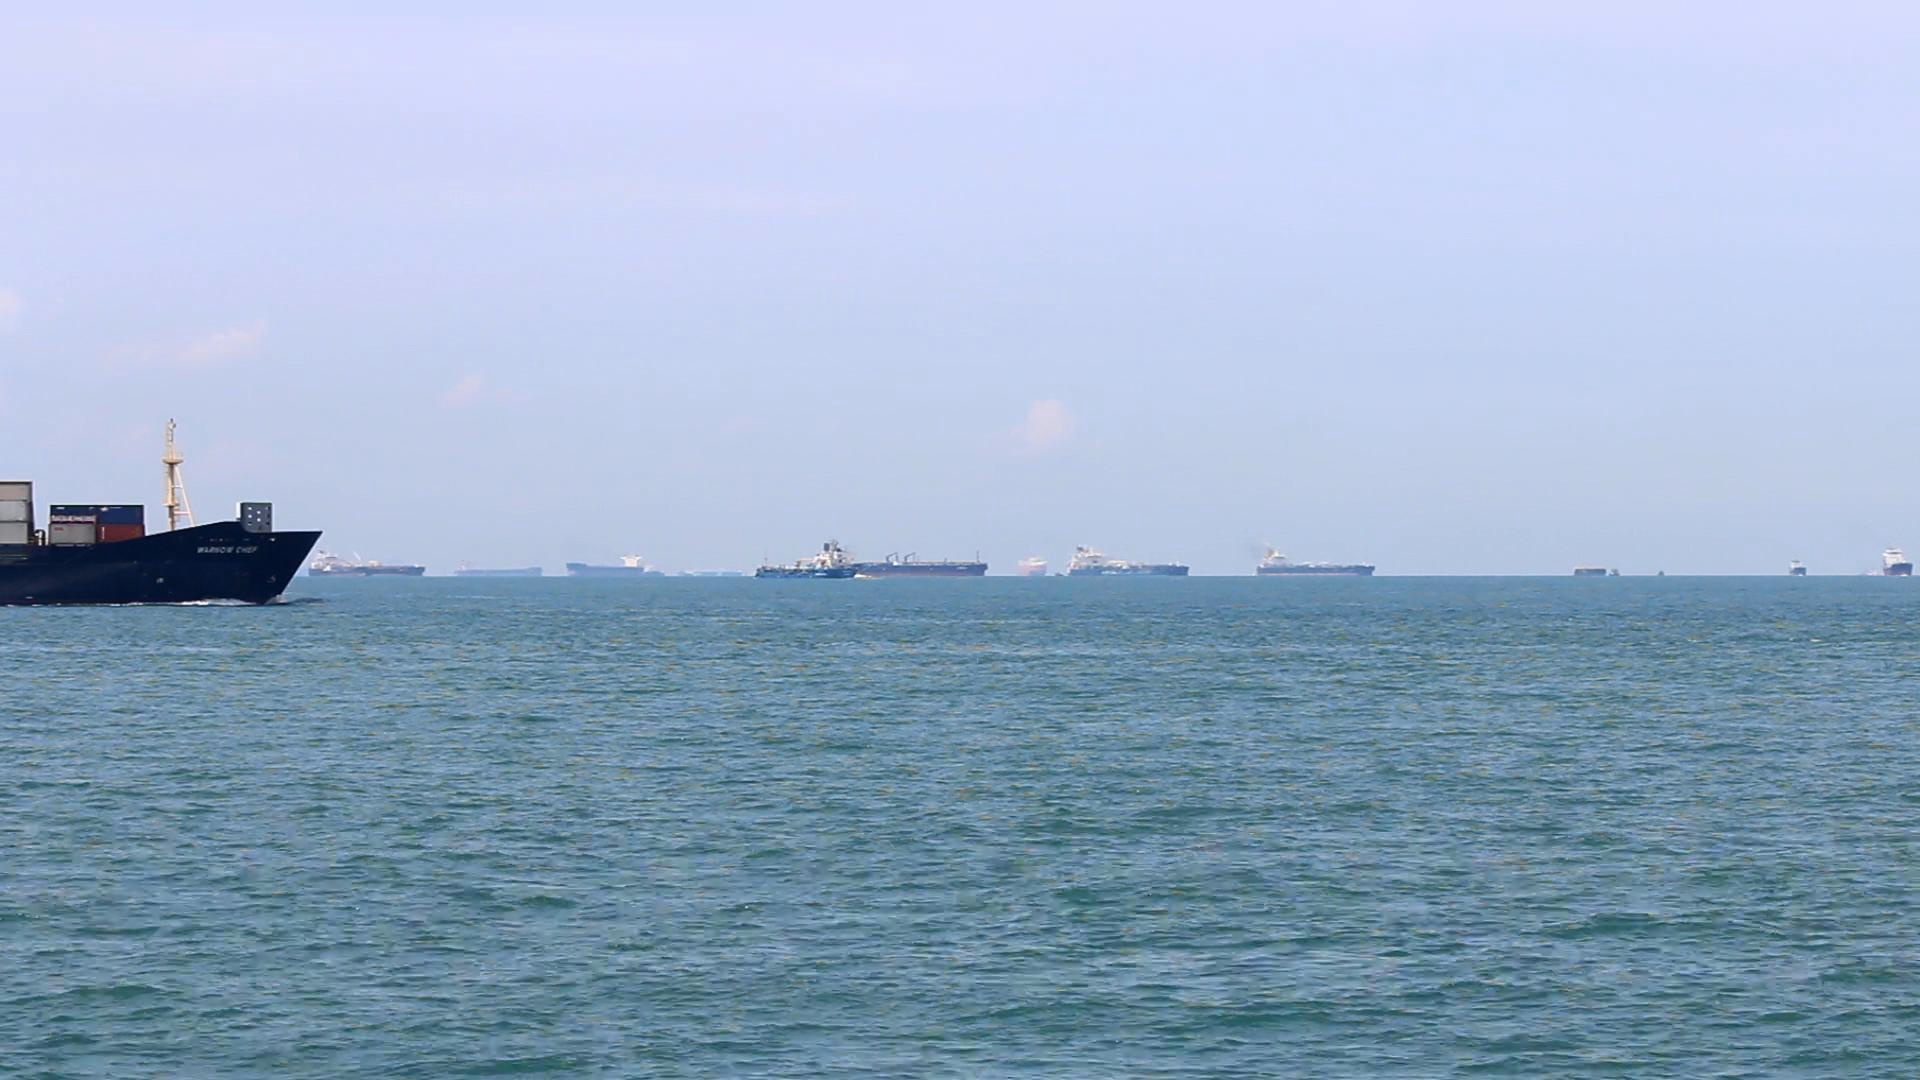Container Ship: (7, 411, 326, 609), (1068, 535, 1193, 582), (299, 545, 433, 585), (1246, 545, 1386, 580), (853, 550, 994, 580), (752, 545, 860, 580), (563, 550, 669, 584), (1869, 539, 1920, 587), (444, 563, 553, 585), (1568, 554, 1627, 593), (1009, 546, 1060, 587), (676, 564, 756, 585), (1779, 550, 1822, 584)
